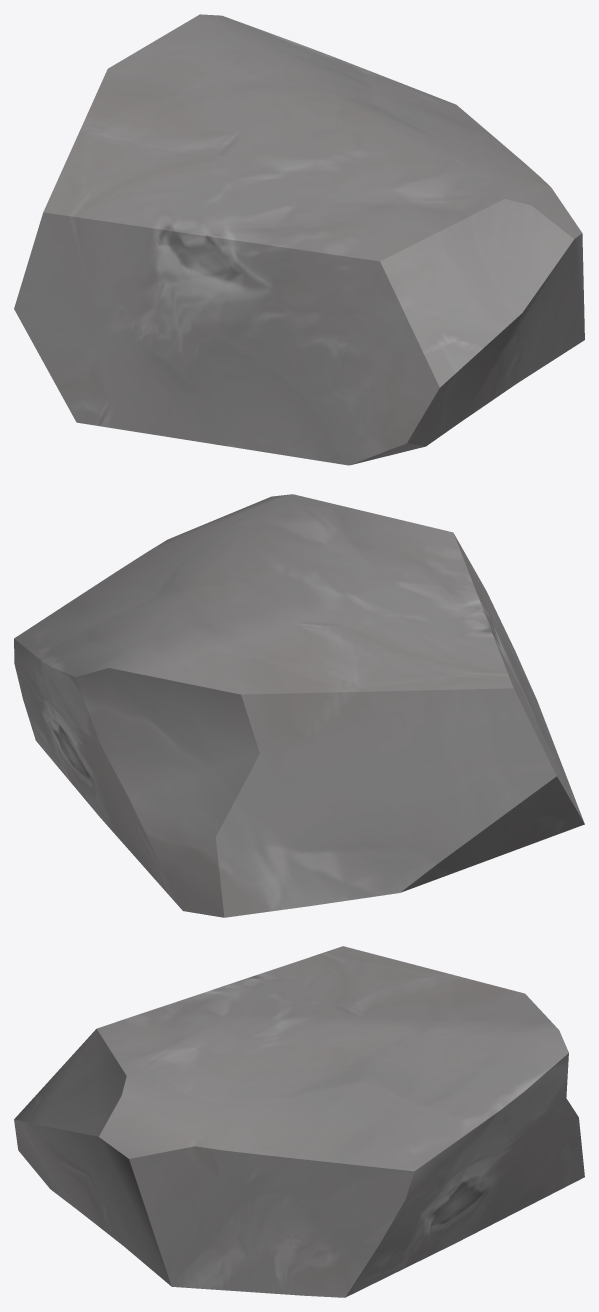
Rendered from pedra_04.fbx.
3 renders of one model, top to bottom at view 1: azimuth 30°, elevation 25°; view 2: azimuth 150°, elevation 25°; view 3: azimuth 270°, elevation 25°, orthographic. The views are drawn at different scales.
Parts seen in each view (by area): view 1: Pedra.003; view 2: Pedra.003; view 3: Pedra.003.
Part boxes in pixels (x1,y1,x2,y2): Pedra.003: (14, 14, 584, 465); Pedra.003: (14, 494, 584, 917); Pedra.003: (14, 946, 584, 1297).
Bounding box in the file's own units: 38.58 × 15.21 × 42.35.
